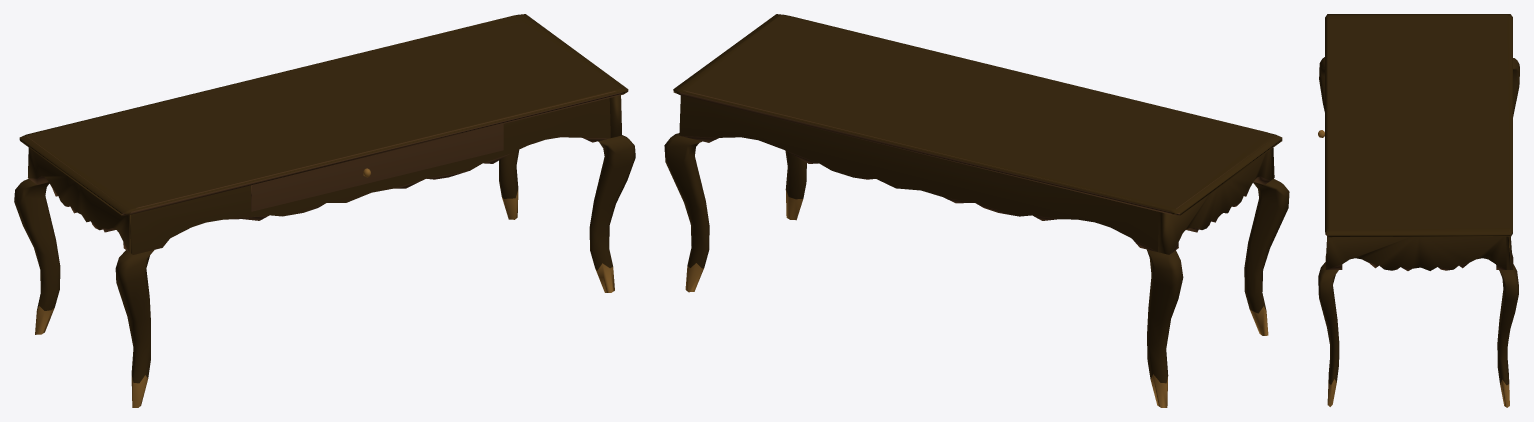
3 renders of one model, left to right at view 1: azimuth 30°, elevation 25°; view 2: azimuth 150°, elevation 25°; view 3: azimuth 270°, elevation 25°, orthographic. The views are drawn at different scales.
Visible parts, largest first — view 1: AntiqueDiningTable; view 2: AntiqueDiningTable; view 3: AntiqueDiningTable.
Boxes of the visible parts, bbox=[...] form: AntiqueDiningTable: bbox=[14, 14, 635, 407]; AntiqueDiningTable: bbox=[664, 14, 1289, 407]; AntiqueDiningTable: bbox=[1318, 14, 1519, 407].
Size of what is drawn, in the model's own units: 2.46 by 0.915 by 0.9338.
Materials: 2 (2 with a texture image).
